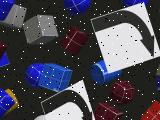Right: (90, 2, 160, 74), (40, 79, 95, 120)
